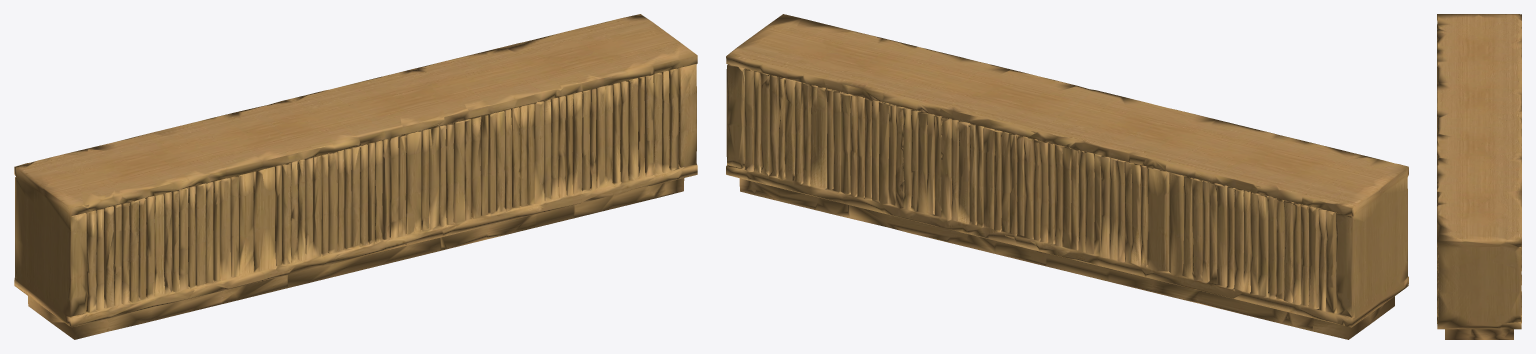
The model's file is Entrance Foyer.glb.
3 views of the same model, side by side, from view 1: azimuth 30°, elevation 25°; view 2: azimuth 150°, elevation 25°; view 3: azimuth 270°, elevation 25° (orthographic). The views are drawn at different scales.
Parts seen in each view (by area): view 1: Mesh_0.003; view 2: Mesh_0.003; view 3: Mesh_0.003.
Boxes of the visible parts, x1,y1,x2,y2 form: Mesh_0.003: (14, 14, 697, 339); Mesh_0.003: (726, 14, 1408, 339); Mesh_0.003: (1437, 14, 1521, 339).
Size of the model in its own units: 2.84 by 0.6001 by 0.4495.
1 material, 1 textured.
